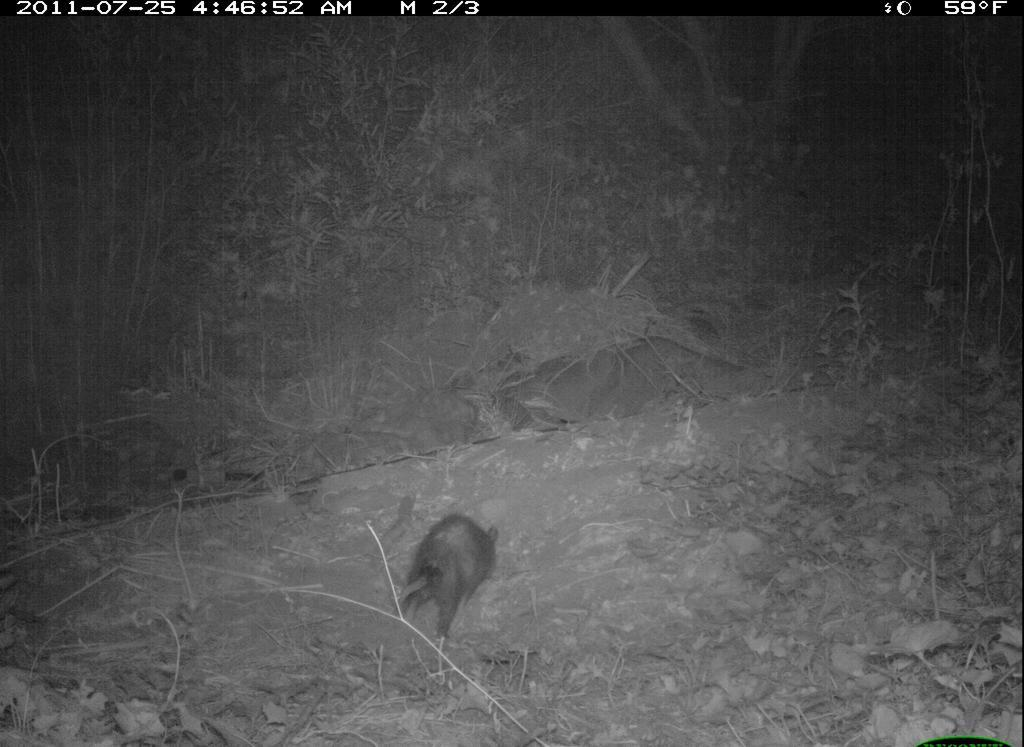opossum: (400, 500, 513, 642)
